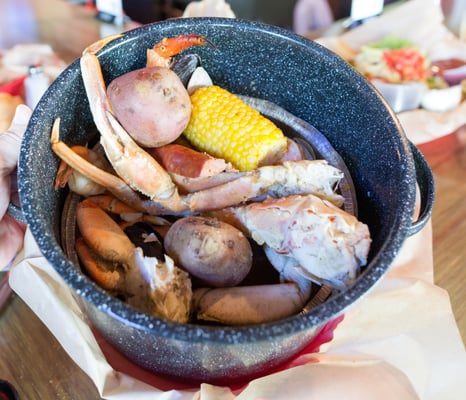sushi: (10, 10, 435, 391)
